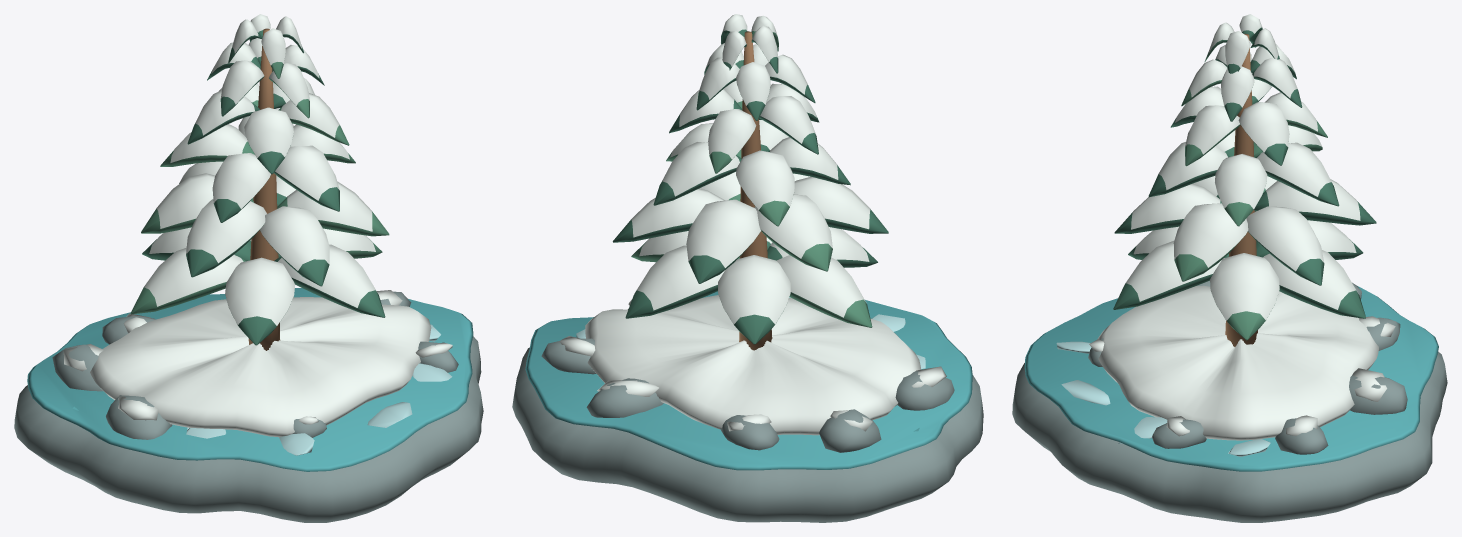
Rendered from snowy-island-v1.glb.
3 views of the same model, side by side, from view 1: azimuth 30°, elevation 25°; view 2: azimuth 150°, elevation 25°; view 3: azimuth 270°, elevation 25° (orthographic).
Visible parts, largest first — view 1: Snowy | Snow | soft, Snowy | Rock | blue grey, Snowy | Sea | icy turquoise, Snowy | Pine | needles, Snowy | Pine | sunlit needles, Snowy | Ice | pale blue, Snowy | Pine | bark; view 2: Snowy | Snow | soft, Snowy | Rock | blue grey, Snowy | Sea | icy turquoise, Snowy | Pine | needles, Snowy | Pine | sunlit needles, Snowy | Pine | bark; view 3: Snowy | Snow | soft, Snowy | Rock | blue grey, Snowy | Sea | icy turquoise, Snowy | Pine | needles, Snowy | Pine | sunlit needles, Snowy | Ice | pale blue, Snowy | Pine | bark.
Boxes of the visible parts, x1=… form: Snowy | Snow | soft: x1=63, y1=14, x2=452, y2=437; Snowy | Rock | blue grey: x1=14, y1=291, x2=483, y2=522; Snowy | Sea | icy turquoise: x1=27, y1=288, x2=473, y2=471; Snowy | Pine | needles: x1=142, y1=30, x2=385, y2=345; Snowy | Pine | sunlit needles: x1=130, y1=62, x2=389, y2=314; Snowy | Ice | pale blue: x1=186, y1=324, x2=452, y2=455; Snowy | Pine | bark: x1=248, y1=28, x2=280, y2=350; Snowy | Snow | soft: x1=559, y1=14, x2=946, y2=435; Snowy | Rock | blue grey: x1=512, y1=309, x2=983, y2=522; Snowy | Sea | icy turquoise: x1=525, y1=291, x2=972, y2=470; Snowy | Pine | needles: x1=612, y1=29, x2=888, y2=344; Snowy | Pine | sunlit needles: x1=631, y1=31, x2=872, y2=327; Snowy | Pine | bark: x1=739, y1=31, x2=772, y2=350; Snowy | Snow | soft: x1=1089, y1=14, x2=1395, y2=440; Snowy | Rock | blue grey: x1=1012, y1=280, x2=1447, y2=522; Snowy | Sea | icy turquoise: x1=1024, y1=286, x2=1438, y2=471; Snowy | Pine | needles: x1=1113, y1=27, x2=1376, y2=318; Snowy | Pine | sunlit needles: x1=1174, y1=39, x2=1327, y2=340; Snowy | Ice | pale blue: x1=1056, y1=341, x2=1270, y2=456; Snowy | Pine | bark: x1=1225, y1=33, x2=1257, y2=346.
Size of the model in its own units: 1.64 by 1.54 by 1.44.
